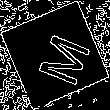M_W: (23, 24, 87, 86)
